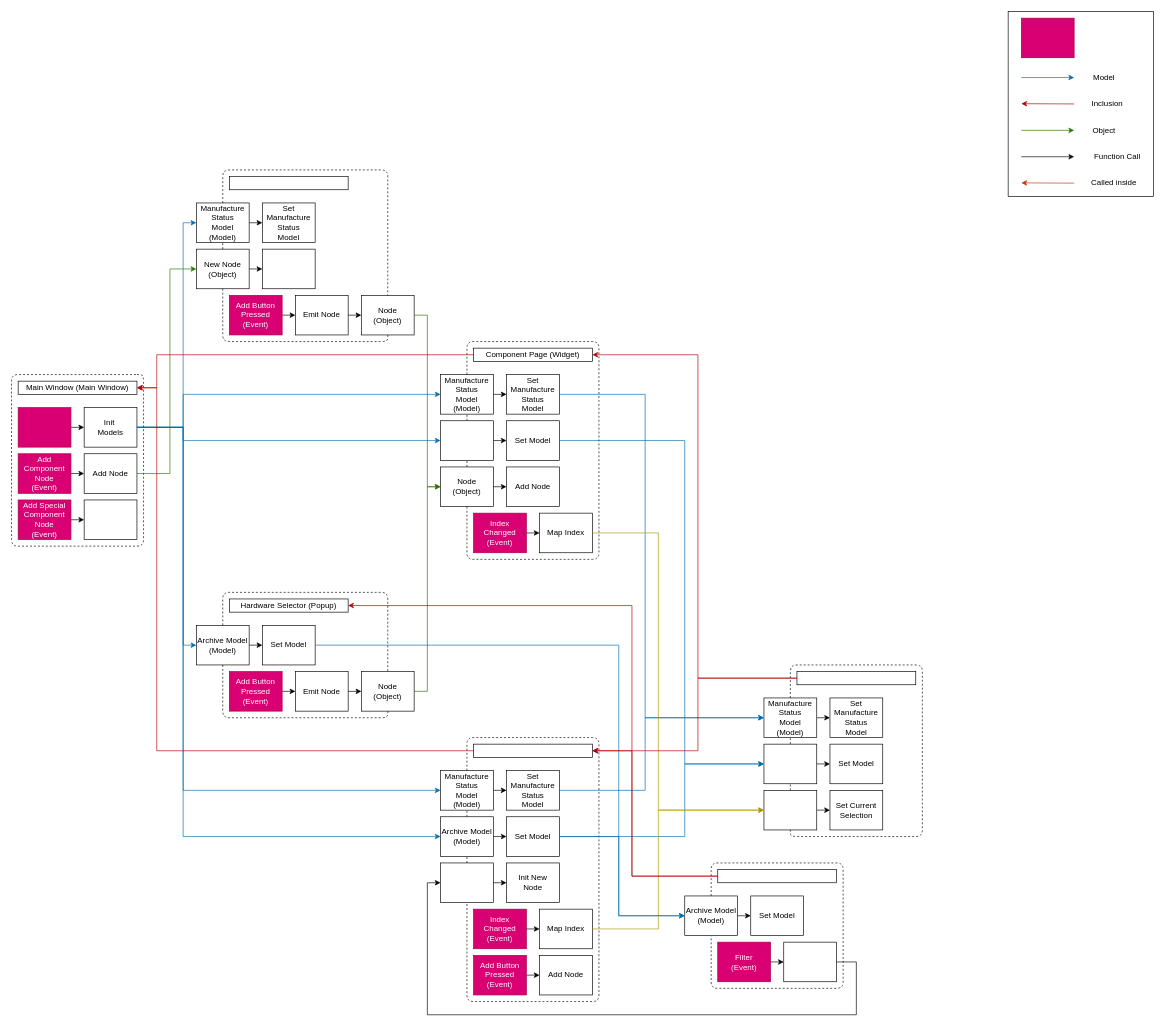
This 1165x1032 diagram has some shape labels left out. Here are the shapes that lost their labels. From the top down, the centre of each, then its label:
the point at 1047,37: Internal Event or Init
the point at 288,183: New Component Editor (Popup)
the point at 288,268: Init and Init Fields
the point at 44,427: Models (Model)
the point at 466,440: Tree Model (Model)
the point at 110,519: Add Special Node
the point at 856,678: Component Editor (Widget)
the point at 532,750: Archive Page (Widget)
the point at 790,763: Tree/Archive Model (Model)
the point at 790,810: New Index (Model Index)
the point at 466,882: Filter Changed (Event)
the point at 777,876: Archive View (Widget)
the point at 810,961: Update Filter
